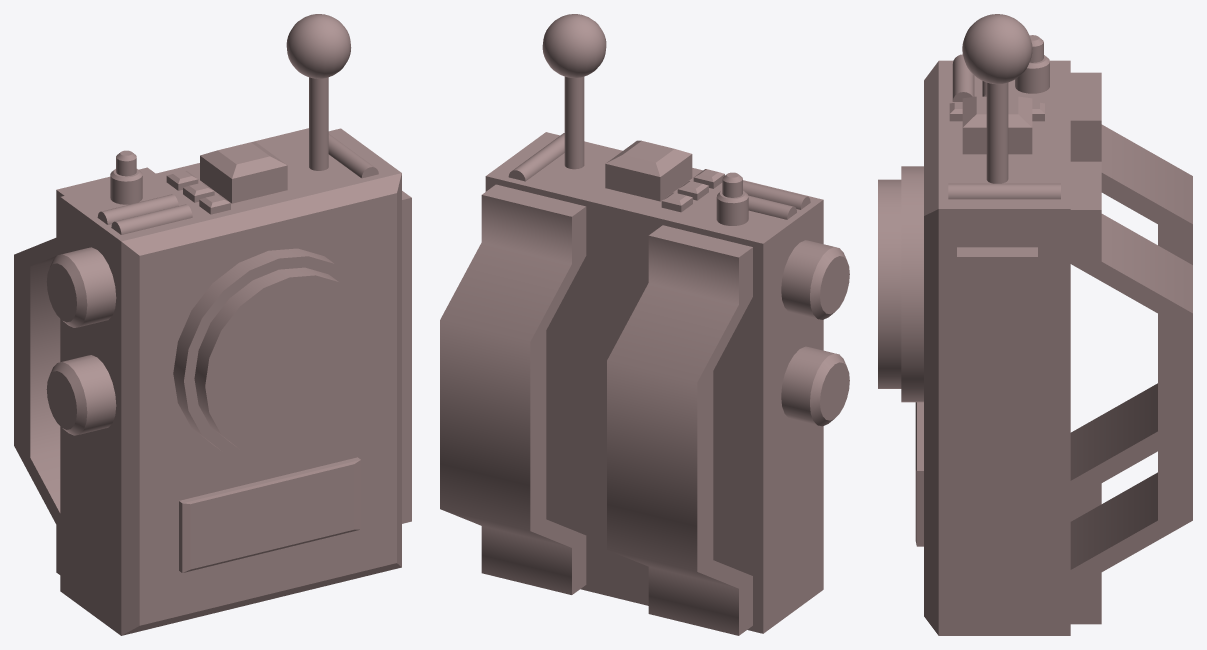
File: dyn_gadget_lightsoutblockout.fbx
3 views of the same model, side by side, from view 1: azimuth 30°, elevation 25°; view 2: azimuth 150°, elevation 25°; view 3: azimuth 270°, elevation 25° (orthographic). The views are drawn at different scales.
Visible parts, largest first — view 1: pCube1, pCylinder1, pCube2, pCube3, pCylinder2, pCylinder5, pCylinder4, pCube5, pSphere1, pCube9, pCylinder3, pCylinder9 (+3 smaller); view 2: pCube1, pCube4, pCube3, pCylinder5, pCylinder4, pCube5, pSphere1, pCylinder3, pCylinder10, pCylinder6, pCylinder9, pCylinder8; view 3: pCube1, pCube9, pCube4, pCube3, pCylinder2, pCylinder1, pSphere1, pCube5, pCylinder3, pCylinder10, pCube2, pCylinder6 (+1 smaller).
Boxes of the visible parts, <box> form: pCube1: <box>60,128,401,635</box>; pCylinder1: <box>194,267,373,456</box>; pCube2: <box>179,457,360,572</box>; pCube3: <box>14,167,155,574</box>; pCylinder2: <box>173,248,373,459</box>; pCylinder5: <box>46,355,116,435</box>; pCylinder4: <box>46,247,116,327</box>; pCube5: <box>200,142,287,203</box>; pSphere1: <box>286,14,351,78</box>; pCube9: <box>402,191,411,523</box>; pCylinder3: <box>309,77,328,170</box>; pCylinder9: <box>111,204,192,234</box>; pCube1: <box>485,132,823,633</box>; pCube4: <box>440,184,586,594</box>; pCube3: <box>607,225,752,635</box>; pCylinder5: <box>781,346,849,426</box>; pCylinder4: <box>781,240,849,319</box>; pCube5: <box>605,140,692,201</box>; pSphere1: <box>542,14,606,77</box>; pCylinder3: <box>564,76,584,169</box>; pCylinder10: <box>508,133,564,181</box>; pCylinder6: <box>716,190,748,225</box>; pCylinder9: <box>743,181,810,209</box>; pCylinder8: <box>720,190,796,219</box>; pCube1: <box>924,60,1070,635</box>; pCube9: <box>957,247,1037,607</box>; pCube4: <box>1070,161,1192,624</box>; pCube3: <box>1070,72,1192,521</box>; pCylinder2: <box>901,166,923,402</box>; pCylinder1: <box>878,179,901,388</box>; pSphere1: <box>962,14,1032,84</box>; pCube5: <box>962,96,1032,154</box>; pCylinder3: <box>986,82,1008,183</box>; pCylinder10: <box>948,183,1060,199</box>; pCube2: <box>915,402,923,546</box>; pCylinder6: <box>1015,55,1049,93</box>.
Bounding box in the file's own units: 10.36 × 16.12 × 7.81.
